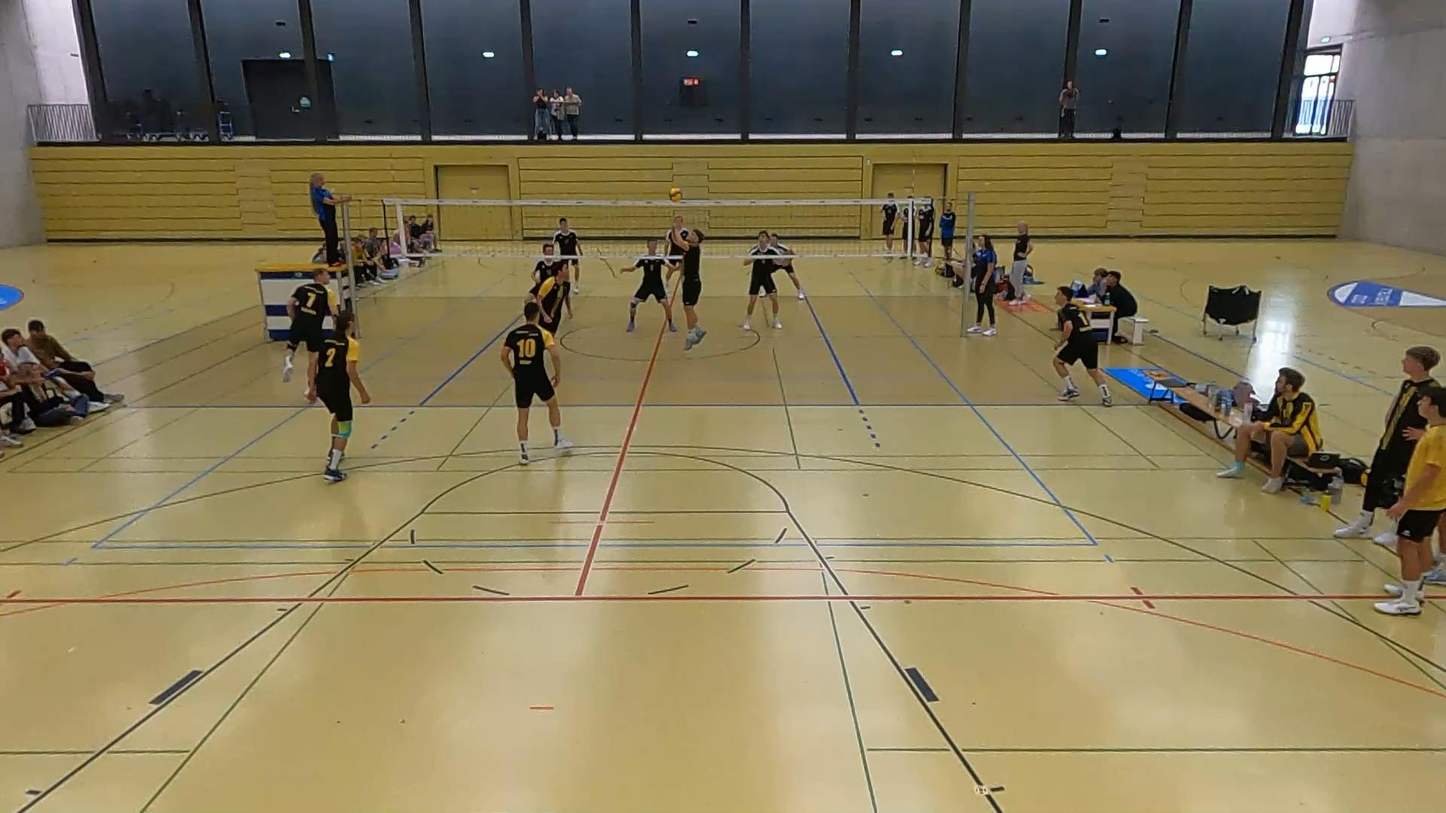Player: (501, 302, 572, 464), (307, 311, 370, 482), (1053, 286, 1112, 406), (283, 269, 338, 382), (624, 239, 676, 331), (743, 230, 781, 330), (530, 263, 572, 333), (770, 232, 805, 298), (553, 218, 581, 291), (532, 242, 566, 283), (666, 215, 688, 269)
Set: (656, 223, 714, 353)
ball: (667, 184, 682, 198)
